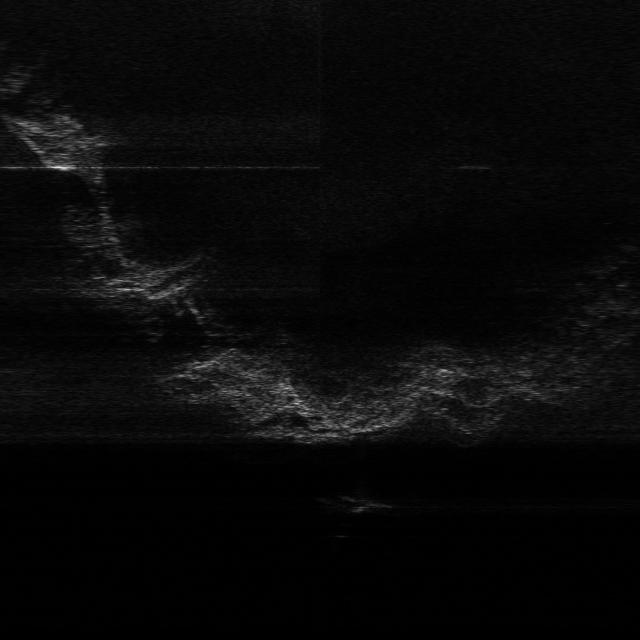plane: (338, 486, 401, 514)
